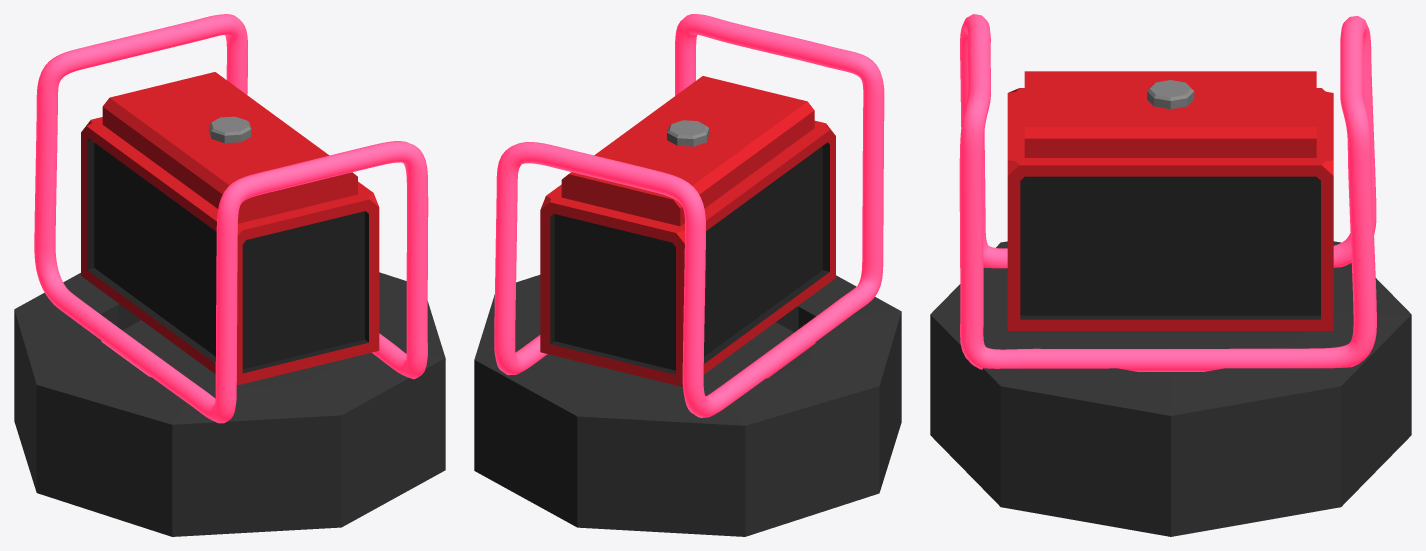
Rendered from GenBad.fbx.
3 renders of one model, left to right at view 1: azimuth 30°, elevation 25°; view 2: azimuth 150°, elevation 25°; view 3: azimuth 270°, elevation 25°, orthographic. The views are drawn at different scales.
Visible parts, largest first — view 1: BadGen; view 2: BadGen; view 3: BadGen.
Part boxes in pixels (<box>): BadGen: <box>14,14,445,536</box>; BadGen: <box>474,14,901,536</box>; BadGen: <box>930,14,1411,536</box>.
Bounding box in the file's own units: 658 × 572 × 658.
